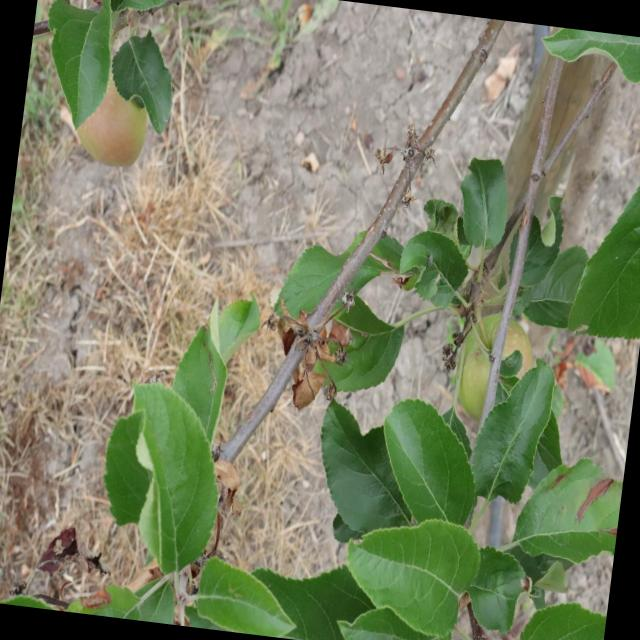-FireBlight-: (260, 301, 349, 409)
